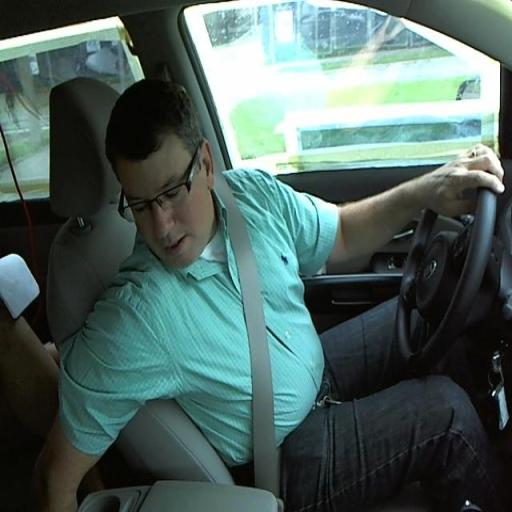turning: (101, 76, 512, 442)
